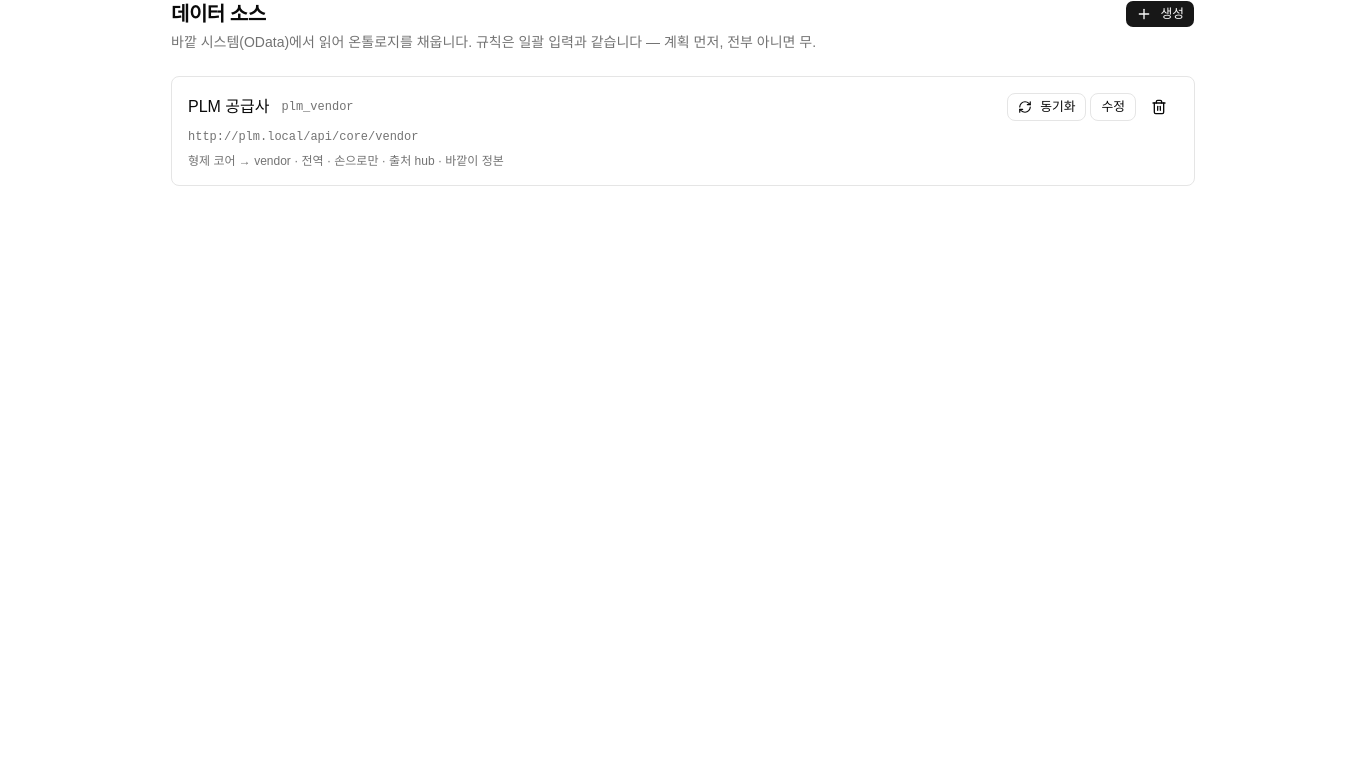
Test: 데이터 소스의 출처 이름 › 맞게 적혀 있으면 맞다고 말한다
The width and height of the screenshot is (1366, 768).
Step 1. Click the button "수정" → (1113, 107), box [1090,93,1136,121]
(page scrolled)
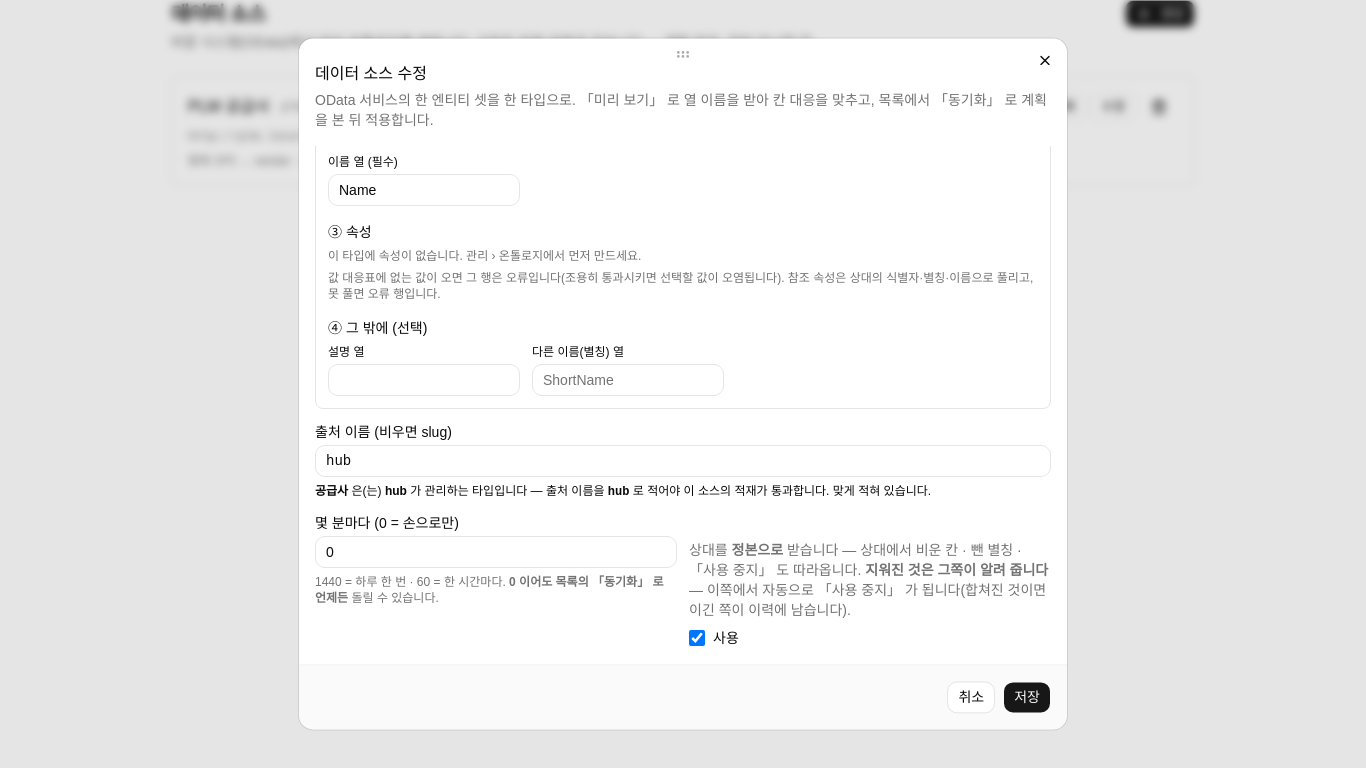
Result: the field labelled "출처 이름 (비우면 slug)" holds "hub" at [315,445,1051,477]
Result: the text "맞게 적혀 있습니다" is shown at [833,484,931,498]
